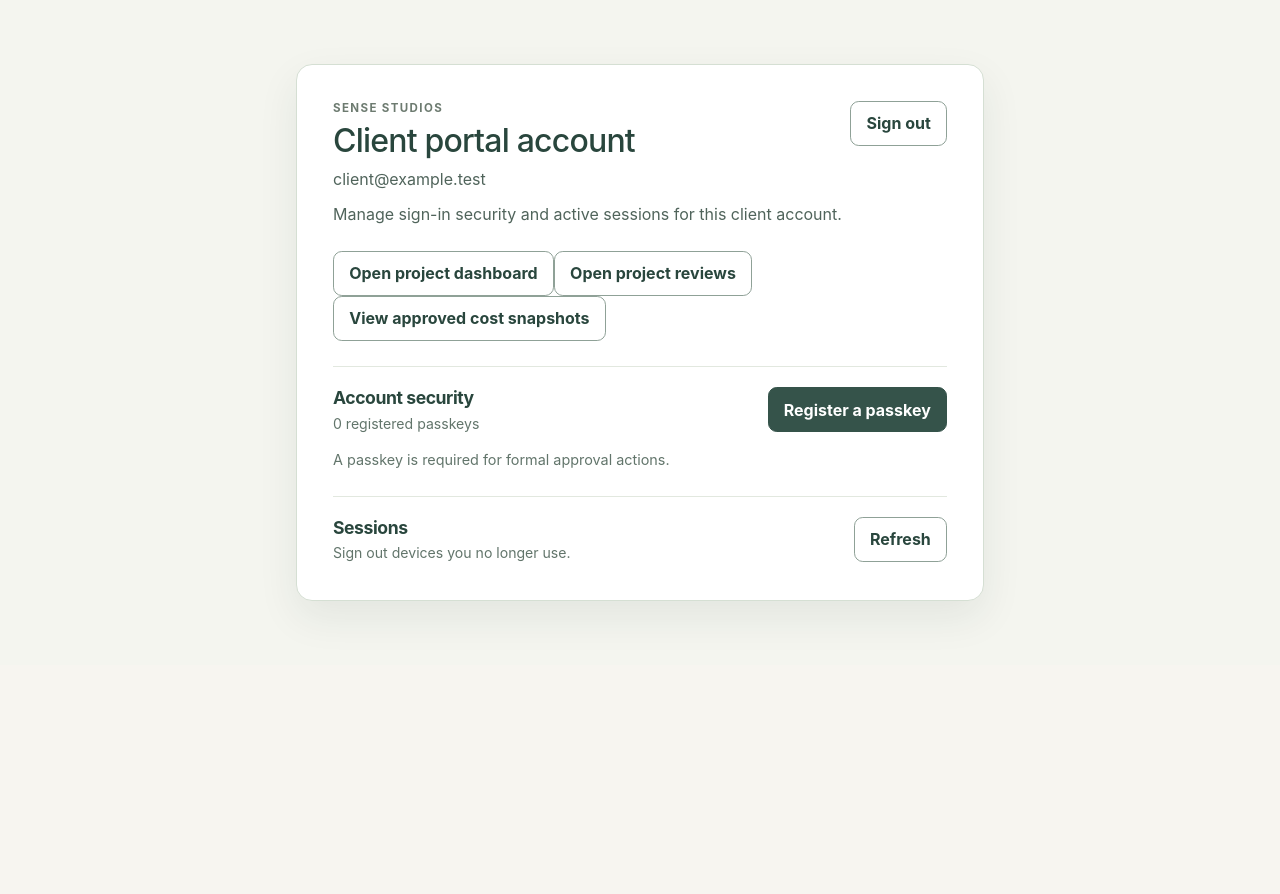
Test: client portal identity and security › shows an empty state when no costs are shared and clears a snapshot after access revocation
What coordinates should you click on to do the following:
click the button "View approved cost snapshots"
I would click on:
 (469, 318)
Its box is [333,296,606,341].
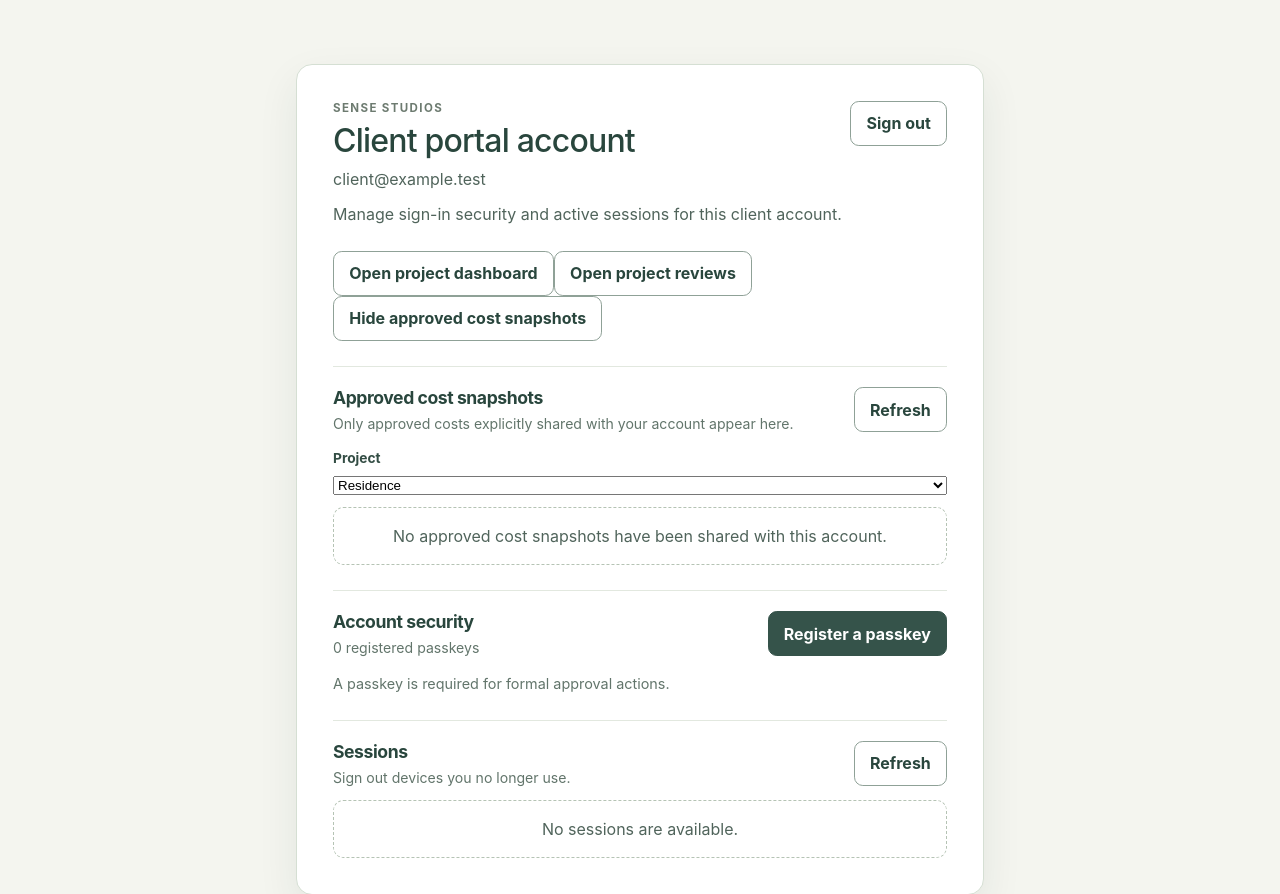
Expected: the text "No approved cost snapshots have been shared with this account." is shown, [333,507,947,565]
What coordinates should you click on to do the following:
click the 1st button "Refresh"
I would click on:
 (900, 410)
Its box is [854,387,947,432].
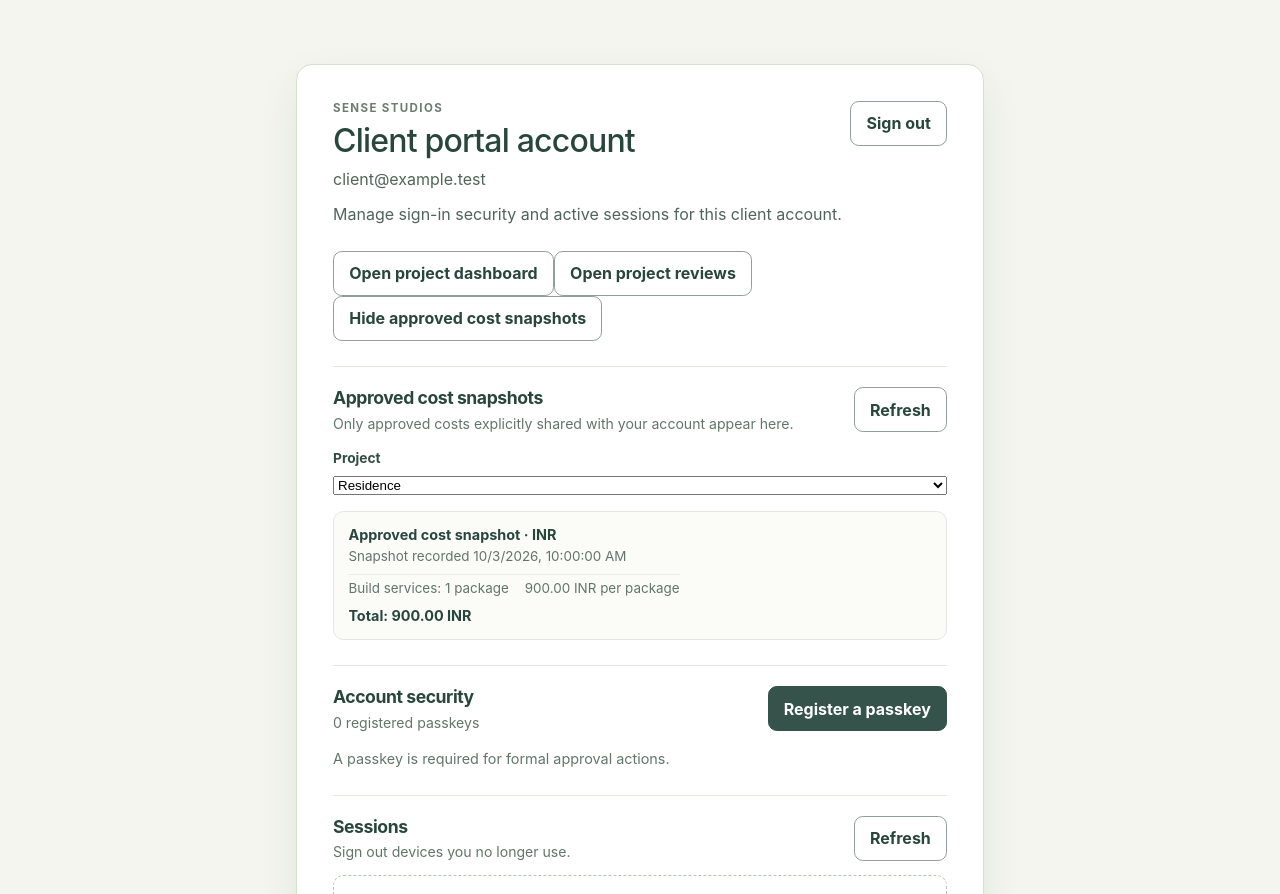
Expected: the text "Build services: 1 package" is shown, [348,580,509,596]
What coordinates should you click on to do the following:
click the 1st button "Refresh"
I would click on:
 (900, 410)
Its box is [854,387,947,432].
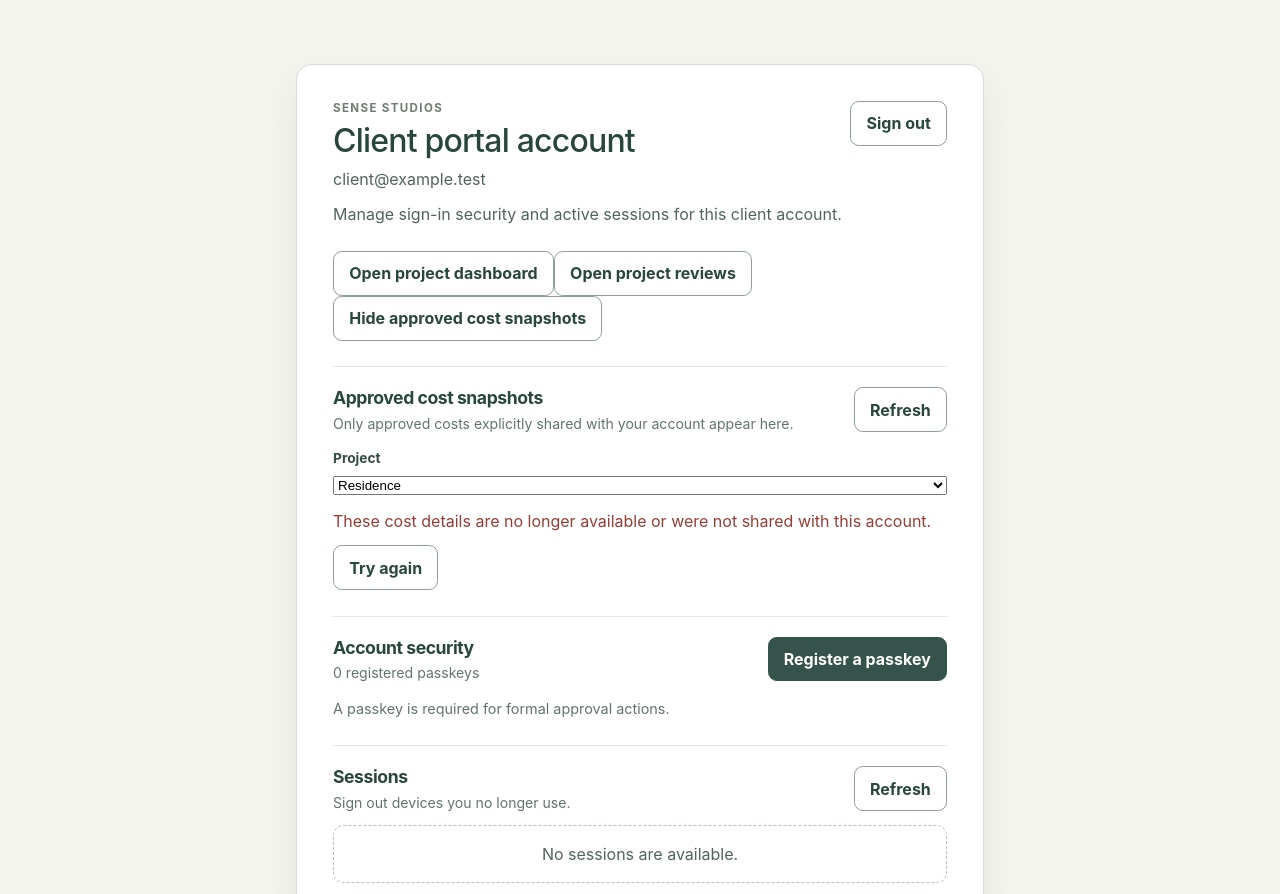
Expected: the 1st message reads "These cost details are no longer available or were not shared with this account.", [333,511,931,531]
Expected: the text "Build services: 1 package" is gone
Expected: the text "Total: 900.00 INR" is gone
